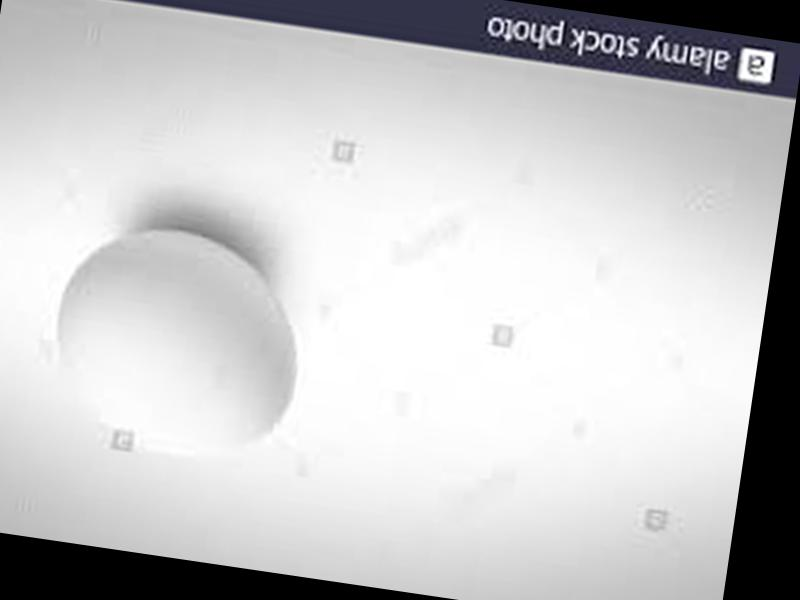Eggs: (38, 214, 311, 466)
